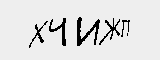Ж: (102, 15, 122, 46)
И: (76, 13, 100, 48)
П: (120, 19, 131, 41)
Х: (26, 18, 49, 48)
Ч: (47, 17, 69, 47)
